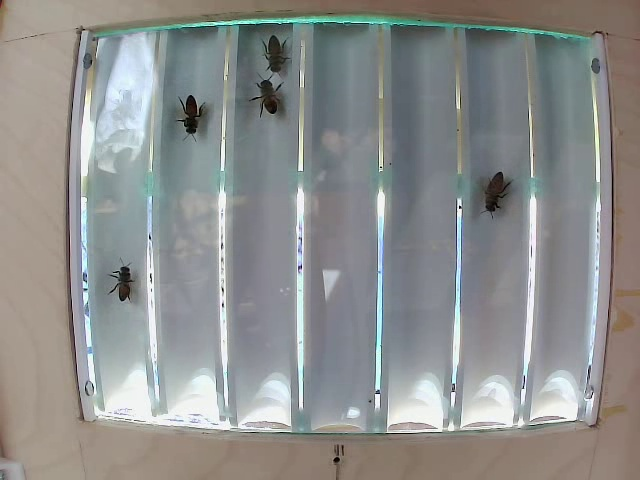bee: (476, 172, 522, 224), (114, 259, 156, 311), (172, 94, 215, 142), (249, 78, 292, 120), (260, 31, 288, 78)
